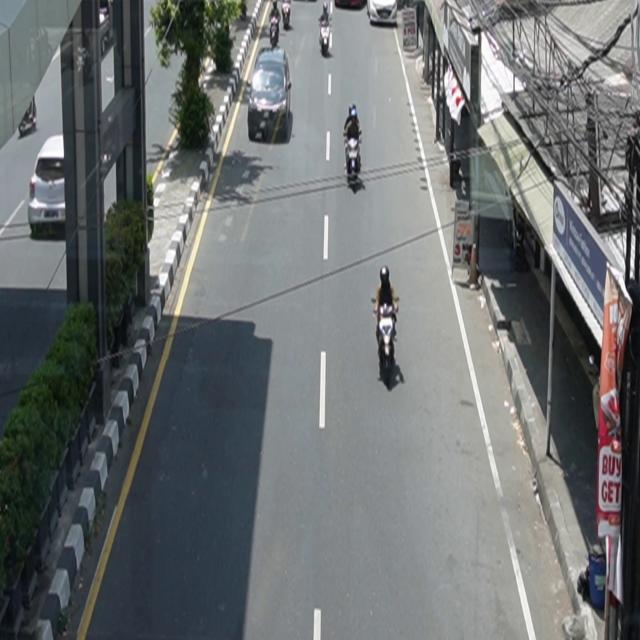car: (249, 47, 293, 143), (29, 135, 67, 236), (368, 1, 398, 26)
